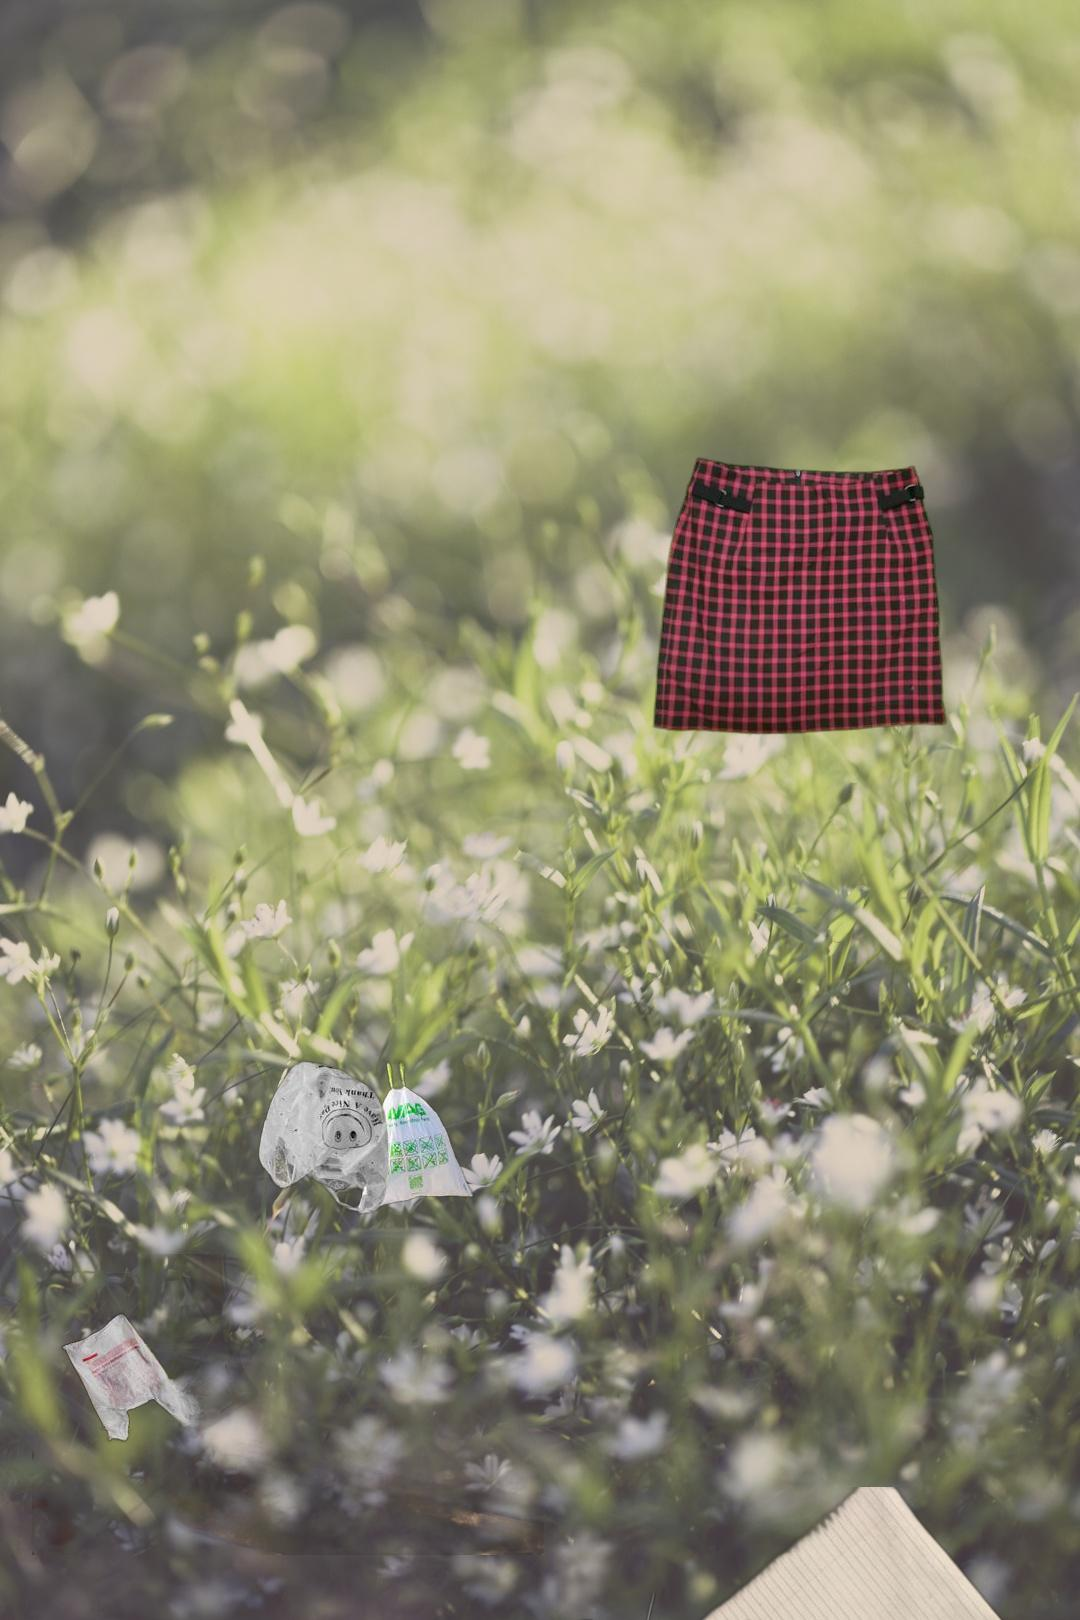clothes: (648, 454, 951, 738), (471, 1593, 871, 1620)
paper: (653, 1487, 1034, 1620)
plastic-bag: (14, 1254, 309, 1546), (256, 1056, 479, 1216)
trashbox-cardboard: (33, 1170, 544, 1555)
